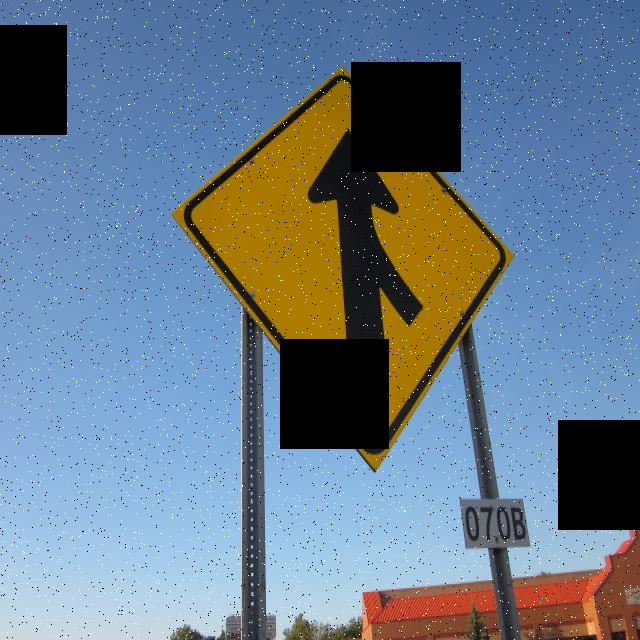warning: (170, 63, 520, 474)
